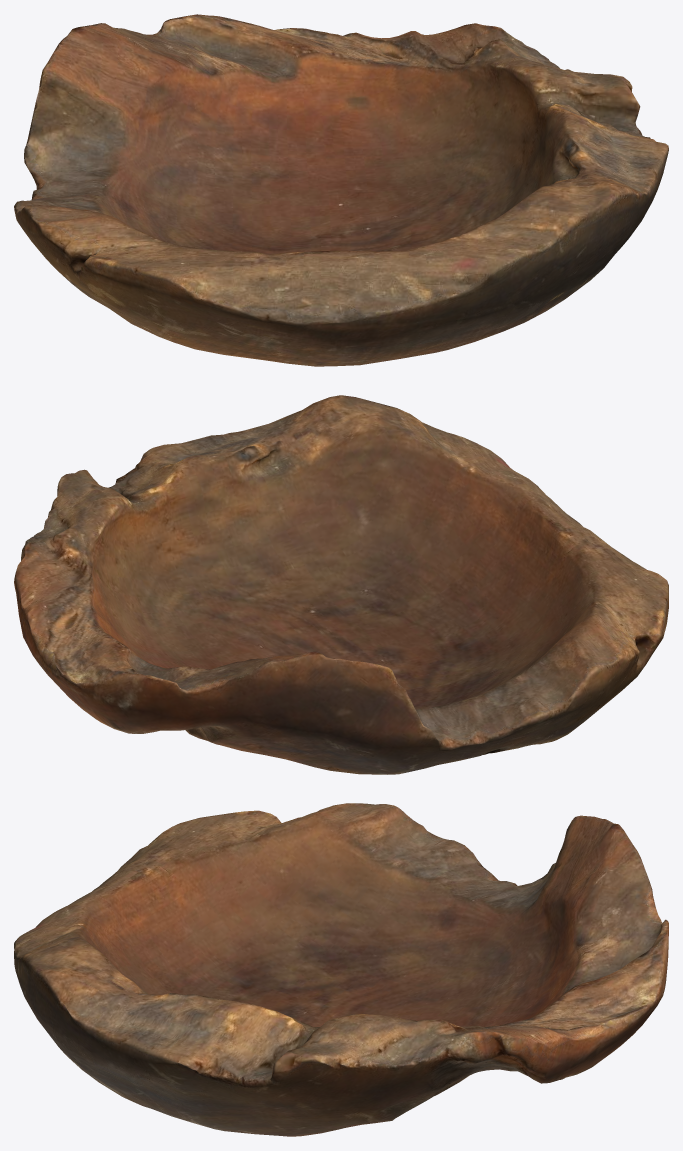
The model's file is c_bowl.glb.
The picture shows the model from 3 angles, top to bottom: view 1: azimuth 30°, elevation 25°; view 2: azimuth 150°, elevation 25°; view 3: azimuth 270°, elevation 25°; orthographic projection. The views are drawn at different scales.
Visible parts, largest first — view 1: c_bowl; view 2: c_bowl; view 3: c_bowl.
Boxes of the visible parts, box(x1,y1,x2,y2) form: c_bowl: box(14, 14, 668, 366); c_bowl: box(14, 395, 668, 774); c_bowl: box(14, 803, 668, 1136).
Bounding box in the file's own units: 0.313 × 0.0935 × 0.309.
Materials: 1 (1 with a texture image).
